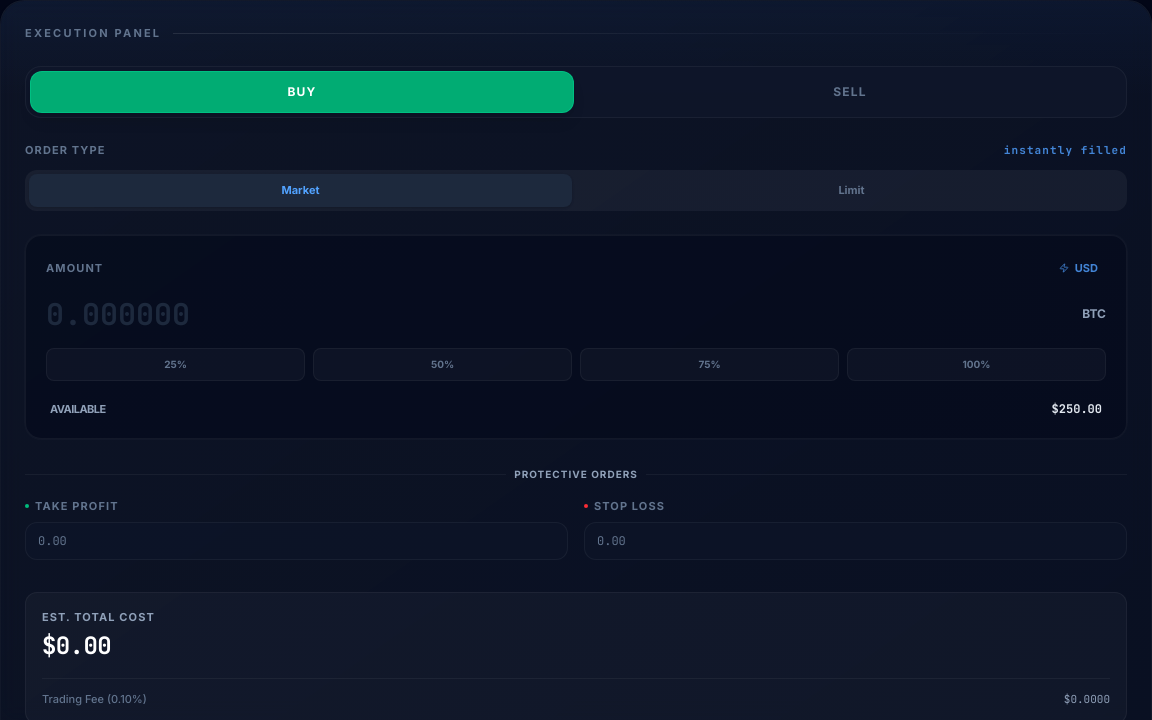
Test: TradePanel quick presets › clamps BUY amount input to the affordable maximum instead of keeping an unrealistic value
Type "999999" into the number field named "Trade amount input" at (576, 314), box x1=46 y1=296 x2=1106 y2=332
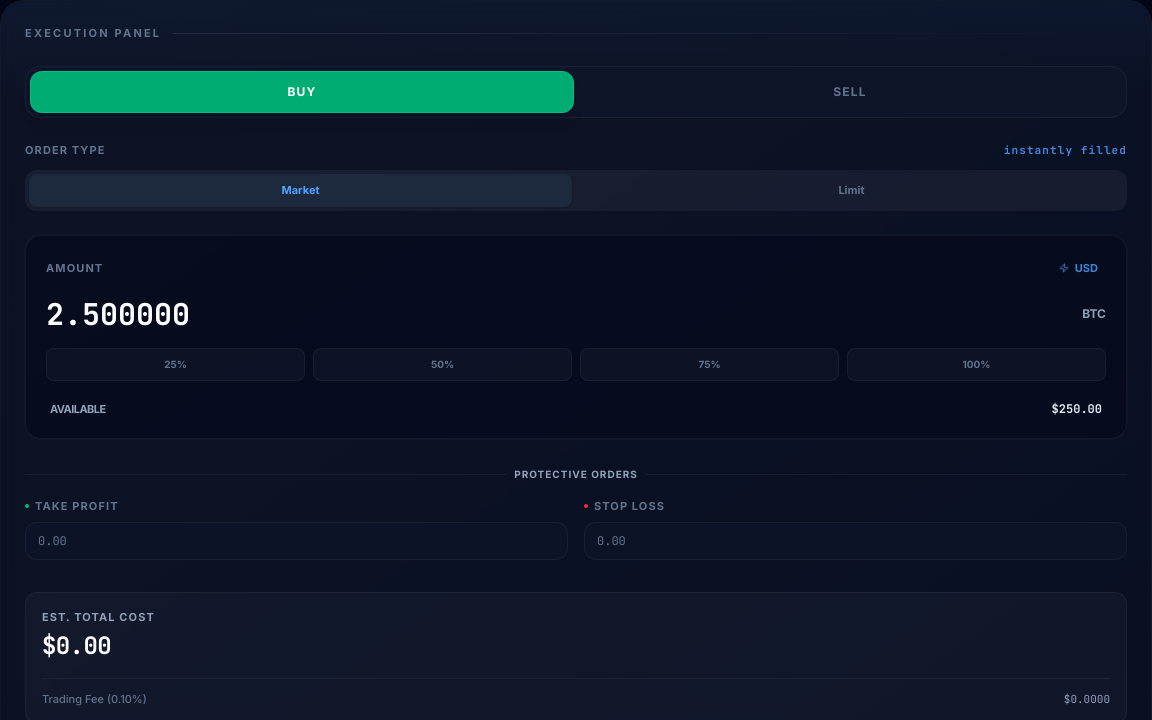
Expected: the number field named "Trade amount input" holds "2.5", x1=46 y1=296 x2=1106 y2=332
